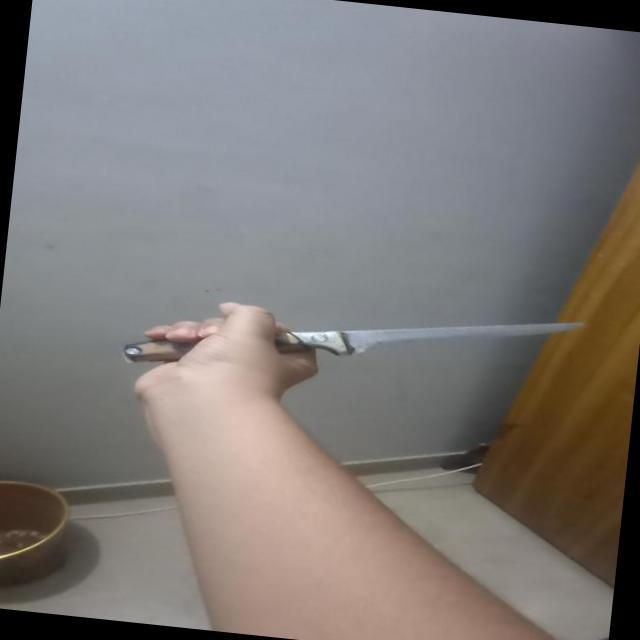Knife: (105, 268, 592, 407)
